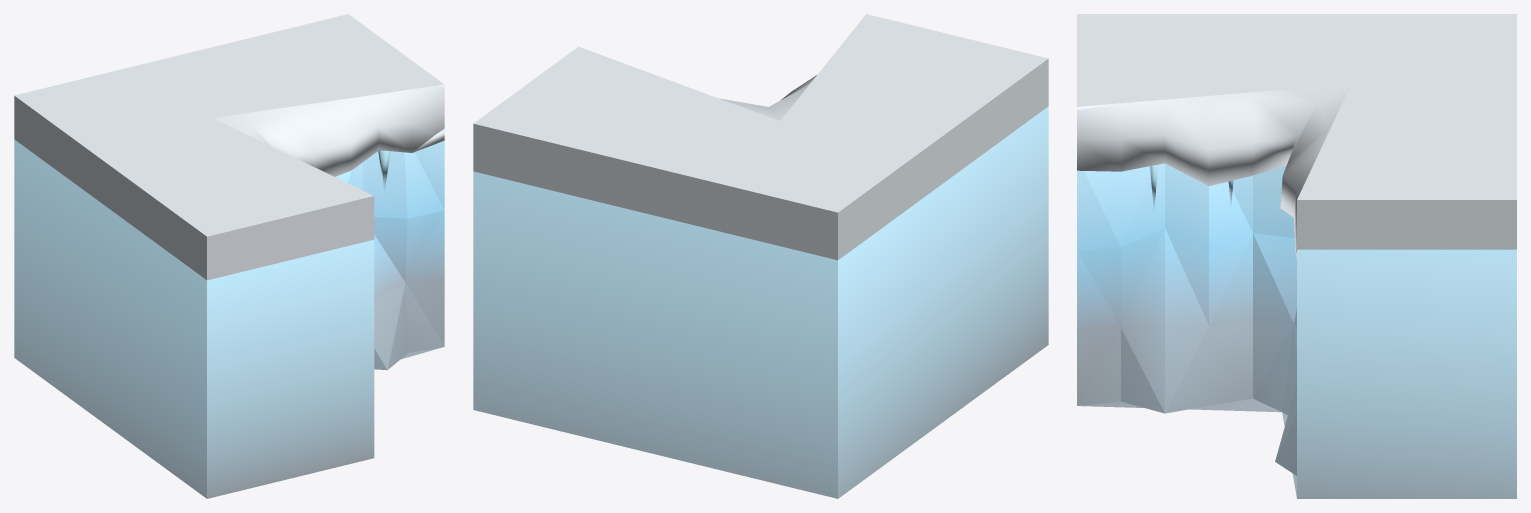
The model's file is Env_Cliff_InnerCorner.glb.
The picture shows the model from 3 angles, left to right: view 1: azimuth 30°, elevation 25°; view 2: azimuth 150°, elevation 25°; view 3: azimuth 270°, elevation 25°; orthographic projection. The views are drawn at different scales.
Parts seen in each view (by area): view 1: Cliff_InnerCorner_Wall, Cliff_InnerCorner_Snow; view 2: Cliff_InnerCorner_Wall, Cliff_InnerCorner_Snow; view 3: Cliff_InnerCorner_Wall, Cliff_InnerCorner_Snow.
Boxes of the visible parts, <box> form: Cliff_InnerCorner_Wall: <box>14,139,444,498</box>; Cliff_InnerCorner_Snow: <box>14,14,444,280</box>; Cliff_InnerCorner_Wall: <box>473,106,1048,498</box>; Cliff_InnerCorner_Snow: <box>473,14,1048,260</box>; Cliff_InnerCorner_Wall: <box>1077,163,1516,498</box>; Cliff_InnerCorner_Snow: <box>1077,14,1516,261</box>.
Size of the model in its own units: 2 by 1.5 by 2.
